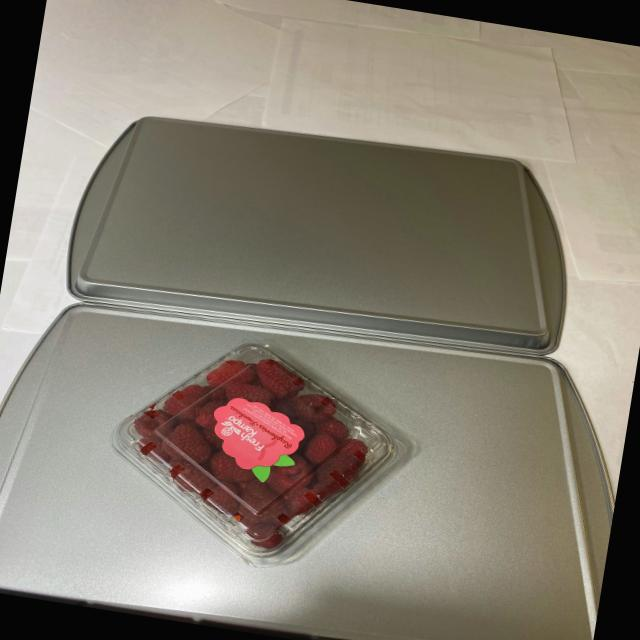raspberries: (116, 342, 380, 560)
